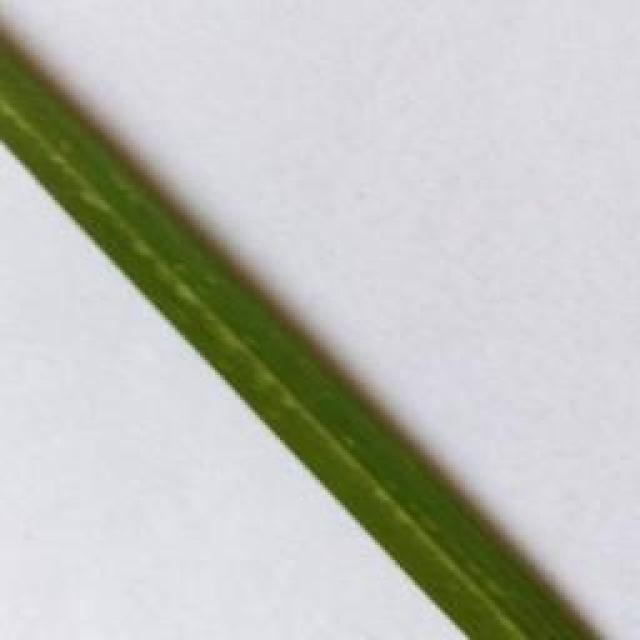Bacterial_Blight: (1, 100, 514, 629)
